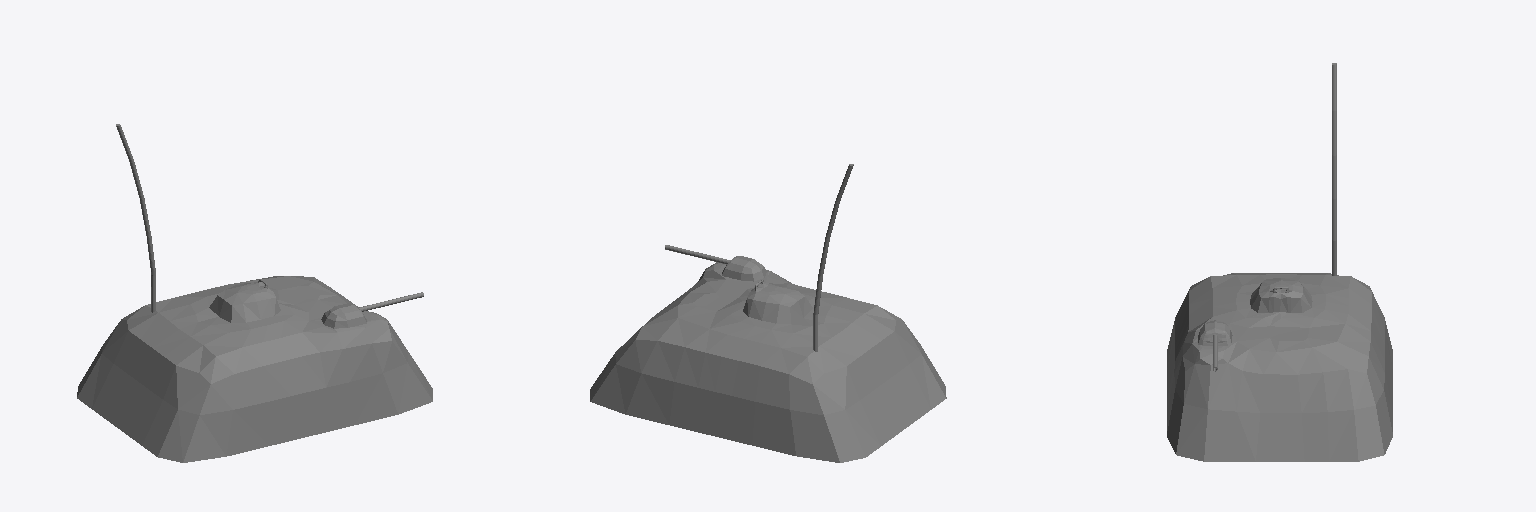
The model's file is tank_top_red.obj.
3 renders of one model, left to right at view 1: azimuth 30°, elevation 25°; view 2: azimuth 150°, elevation 25°; view 3: azimuth 270°, elevation 25°, orthographic.
Visible parts, largest first — view 1: Group1; view 2: Group1; view 3: Group1.
Boxes of the visible parts, <box> form: Group1: <box>77,124,432,462</box>; Group1: <box>590,164,946,462</box>; Group1: <box>1167,63,1392,461</box>.
Size of the model in its own units: 13.59 by 12.95 by 9.63.